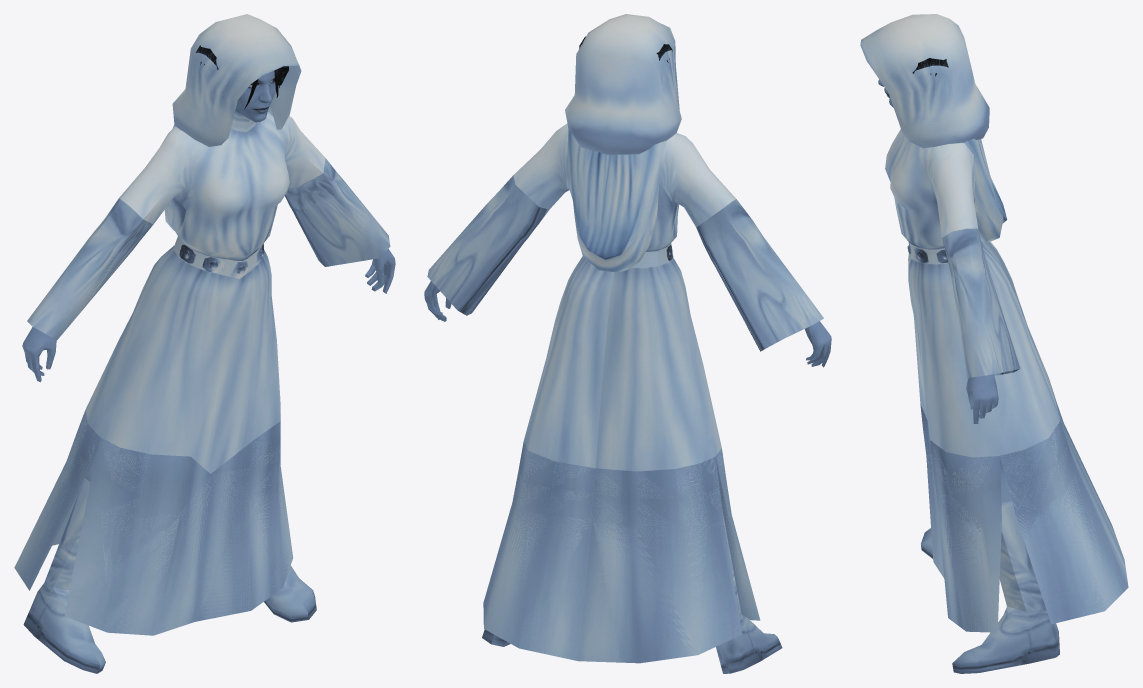
File: leia.glb
3 renders of one model, left to right at view 1: azimuth 30°, elevation 25°; view 2: azimuth 150°, elevation 25°; view 3: azimuth 270°, elevation 25°, orthographic. The views are drawn at different scales.
Bounding box in the file's own units: 42.25 × 64.95 × 25.56.
Materials: 15 (15 with a texture image).
